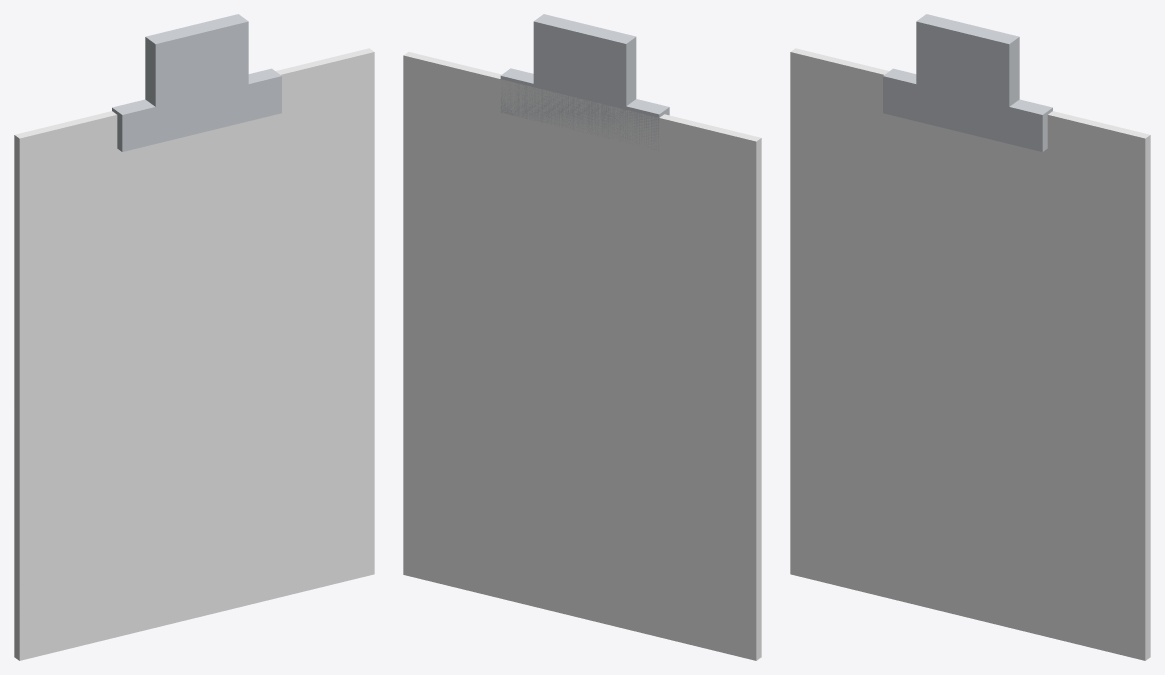
File: card.glb
The picture shows the model from 3 angles, left to right: view 1: azimuth 30°, elevation 25°; view 2: azimuth 150°, elevation 25°; view 3: azimuth 330°, elevation 25°; orthographic projection.
Visible parts, largest first — view 1: card, clip, clamp; view 2: card, clip, clamp; view 3: card, clip, clamp.
Boxes of the visible parts, x1,y1,x2,y2 form: card: (14, 48, 374, 660); clip: (145, 14, 248, 108); clamp: (112, 68, 281, 151); card: (403, 51, 761, 660); clip: (533, 14, 636, 108); clamp: (500, 68, 669, 150); card: (790, 48, 1150, 660); clip: (916, 14, 1019, 108); clamp: (883, 68, 1052, 151).
Size of the model in its own units: 1.6 by 2.54 by 0.08.
Materials: 2 (1 with a texture image).
